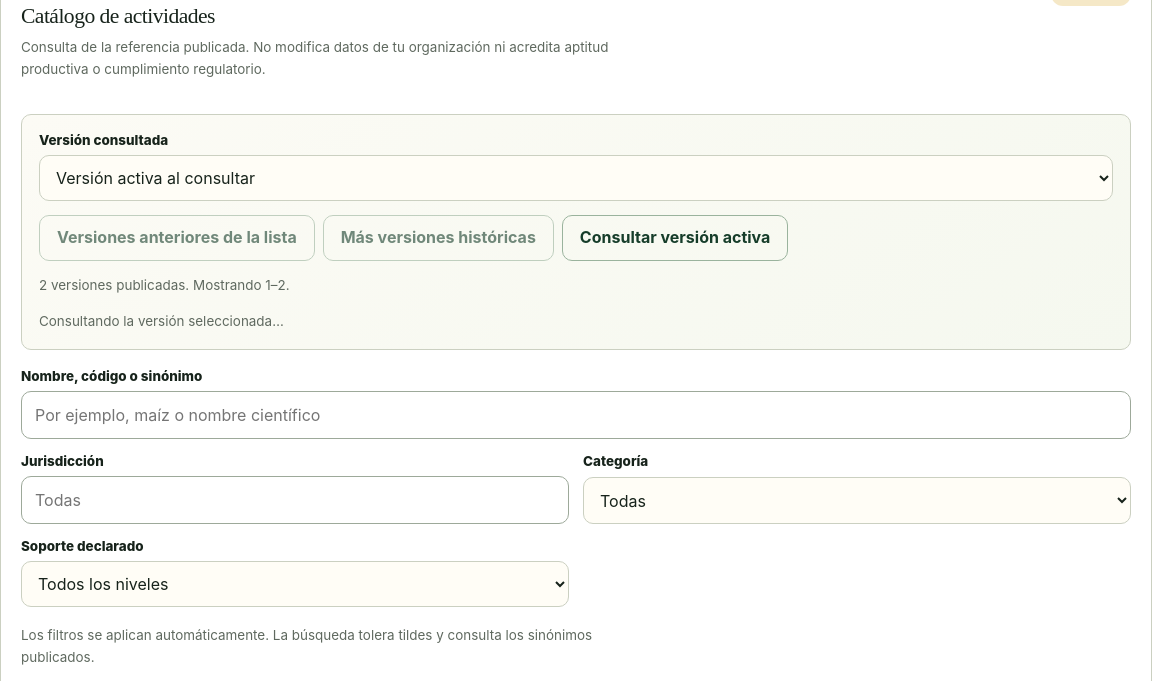
Scenario: CatalogReader › aborts old search requests and ignores their late results
Type "no coincide" into the search field.
click(576, 415); type("no coincide")  # box [21,391,1131,439]
Wait 300 ms
(page scrolled)
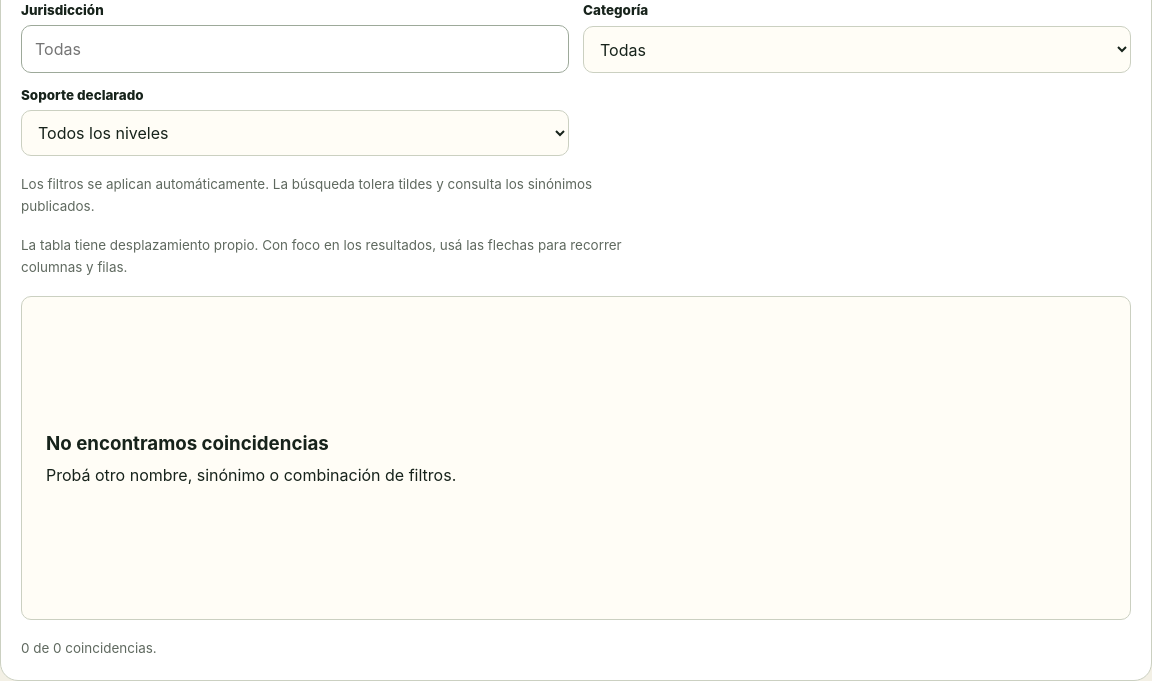
Check: the heading "No encontramos coincidencias" is shown, box [46,432,329,454]
